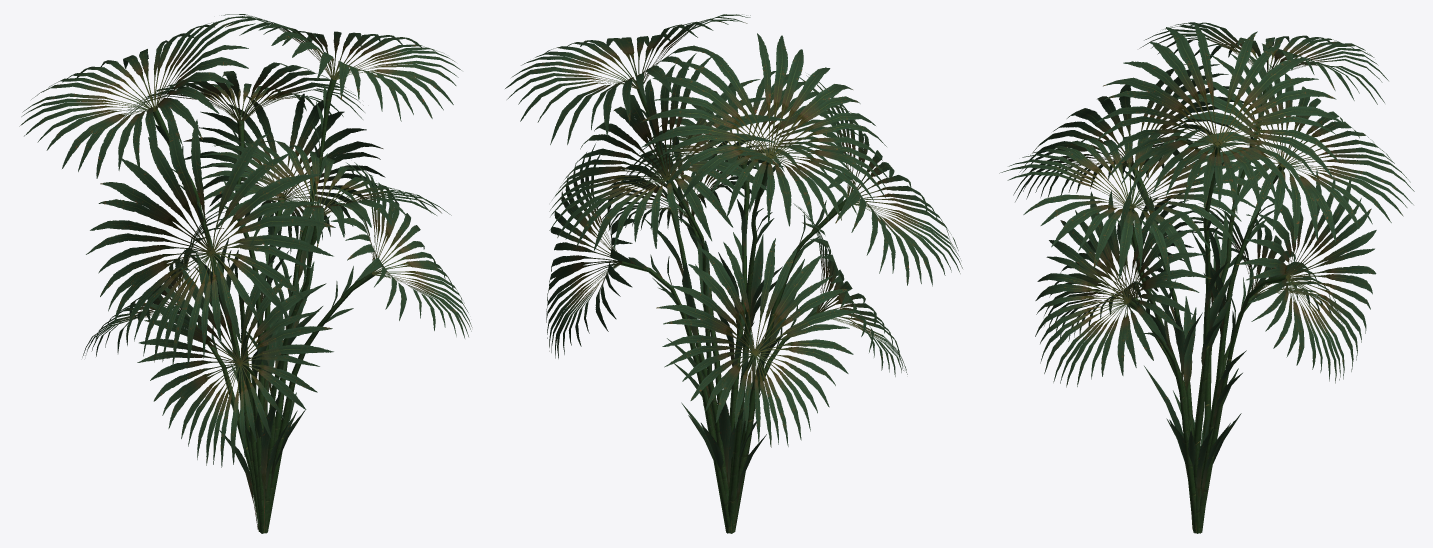
File: Plant1_1_L1.fbx
3 renders of one model, left to right at view 1: azimuth 30°, elevation 25°; view 2: azimuth 150°, elevation 25°; view 3: azimuth 270°, elevation 25°, orthographic.
Visible parts, largest first — view 1: polySurface12; view 2: polySurface12; view 3: polySurface12.
Boxes of the visible parts, box(x1,y1,x2,y2) form: polySurface12: box(19, 14, 472, 533); polySurface12: box(505, 14, 962, 533); polySurface12: box(999, 22, 1414, 533).
Bounding box in the file's own units: 468 × 583 × 439.
